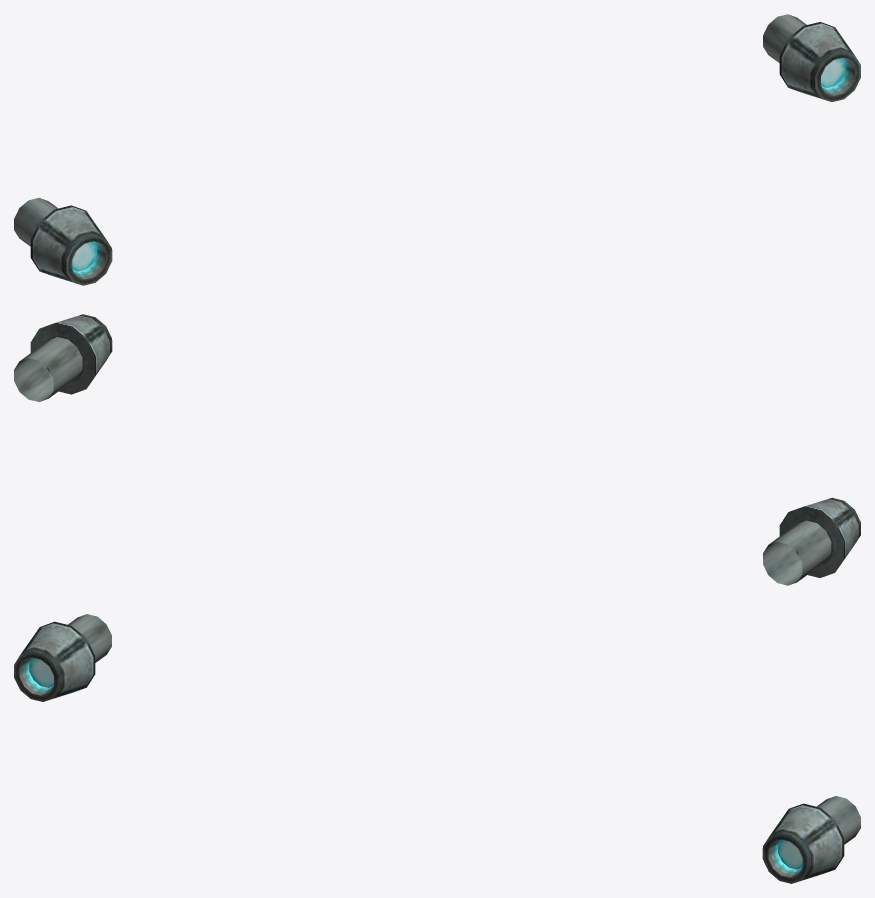
File: hutt_fighter_light_weapon_s02_l0.fbx
3 views of the same model, one above another, from view 1: azimuth 30°, elevation 25°; view 2: azimuth 150°, elevation 25°; view 3: azimuth 330°, elevation 25° (orthographic).
Visible parts, largest first — view 1: mesh_node; view 2: mesh_node; view 3: mesh_node.
Boxes of the visible parts, x1,y1,x2,y2 form: mesh_node: (14,14,860,285); mesh_node: (14,314,860,585); mesh_node: (14,614,860,883).
Size of the model in its own units: 3.59 by 0.2877 by 0.4252.
Materials: 1 (1 with a texture image).
